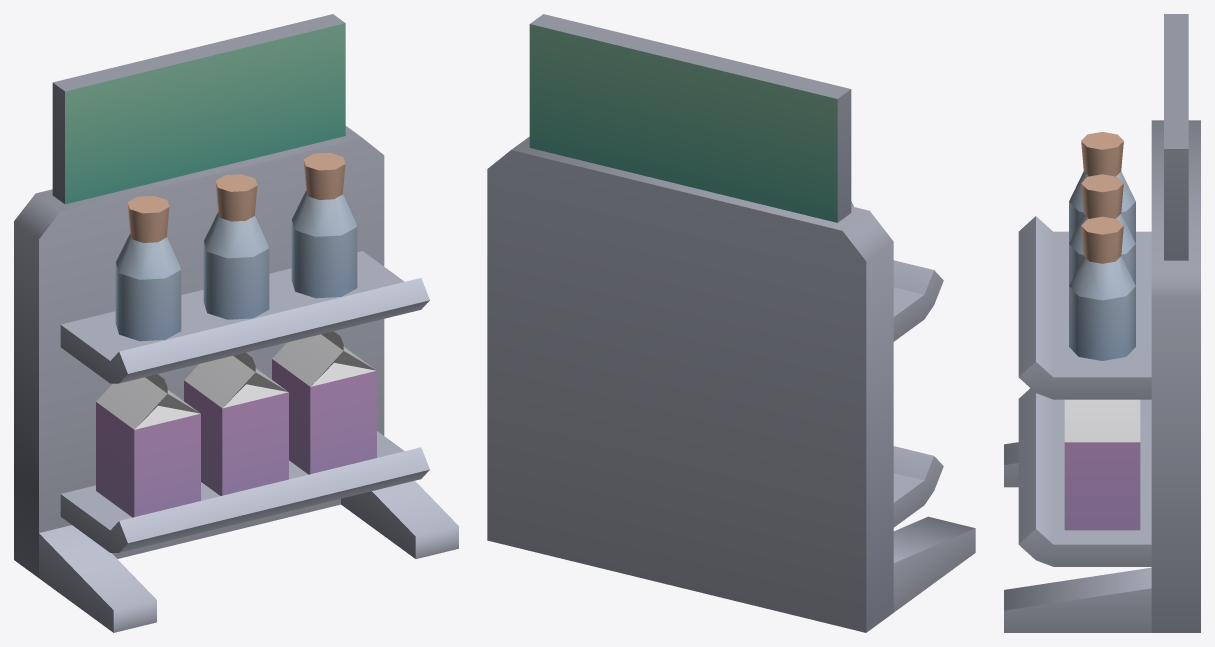
The model's file is shelf-end.glb.
3 renders of one model, left to right at view 1: azimuth 30°, elevation 25°; view 2: azimuth 150°, elevation 25°; view 3: azimuth 270°, elevation 25°, orthographic. The views are drawn at different scales.
Parts seen in each view (by area): view 1: shelf-end; view 2: shelf-end; view 3: shelf-end.
Boxes of the visible parts, box(x1,y1,x2,y2) form: shelf-end: box(14, 14, 458, 632); shelf-end: box(487, 14, 975, 632); shelf-end: box(1004, 14, 1200, 632).
Size of the model in its own units: 0.8 by 1.05 by 0.4.
